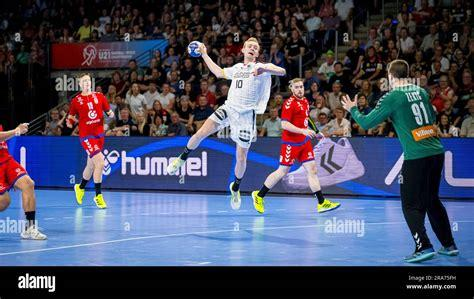ballon_handball: (187, 39, 205, 58)
